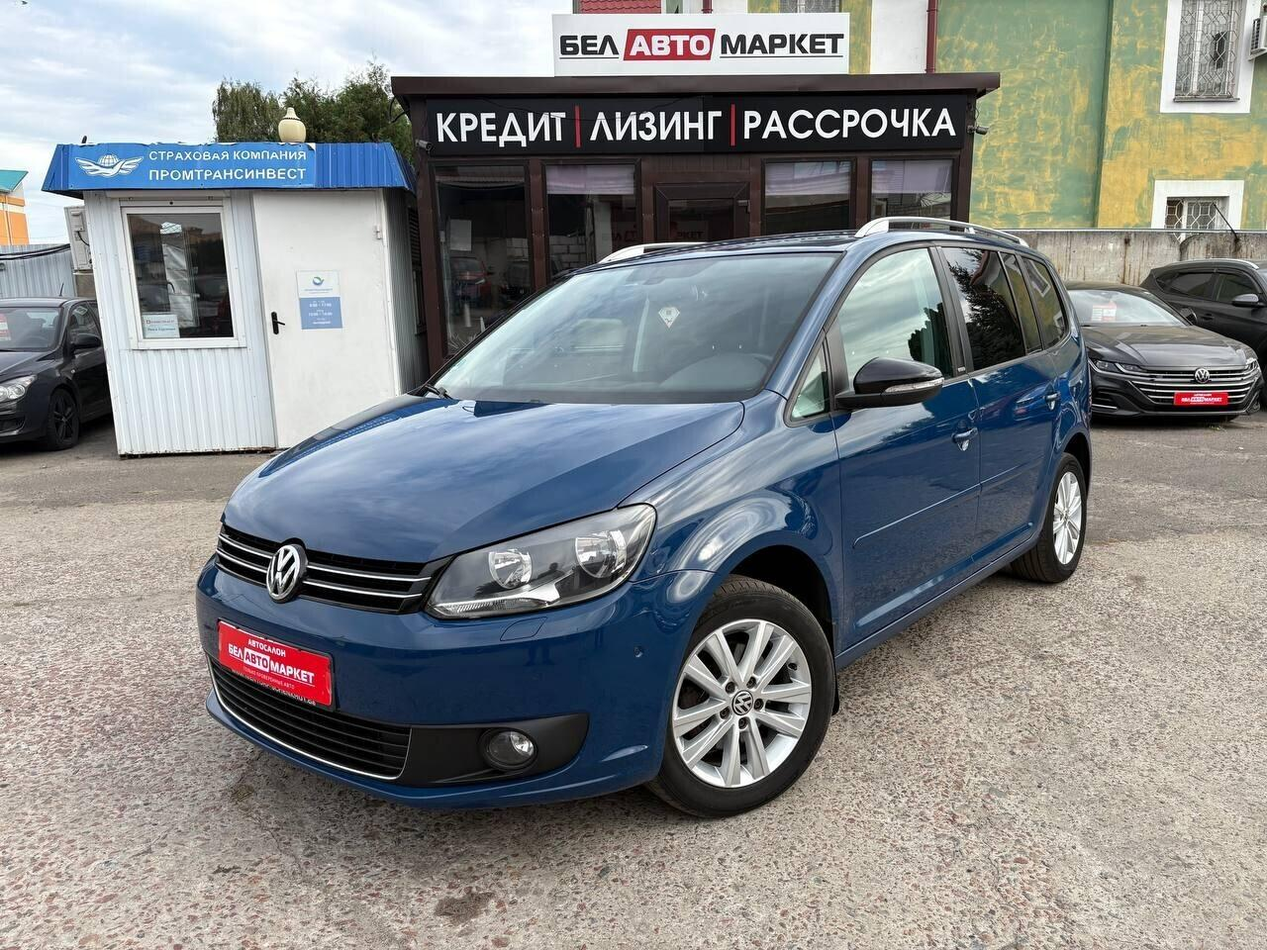Touran_2010-2015: (189, 230, 1095, 819)
